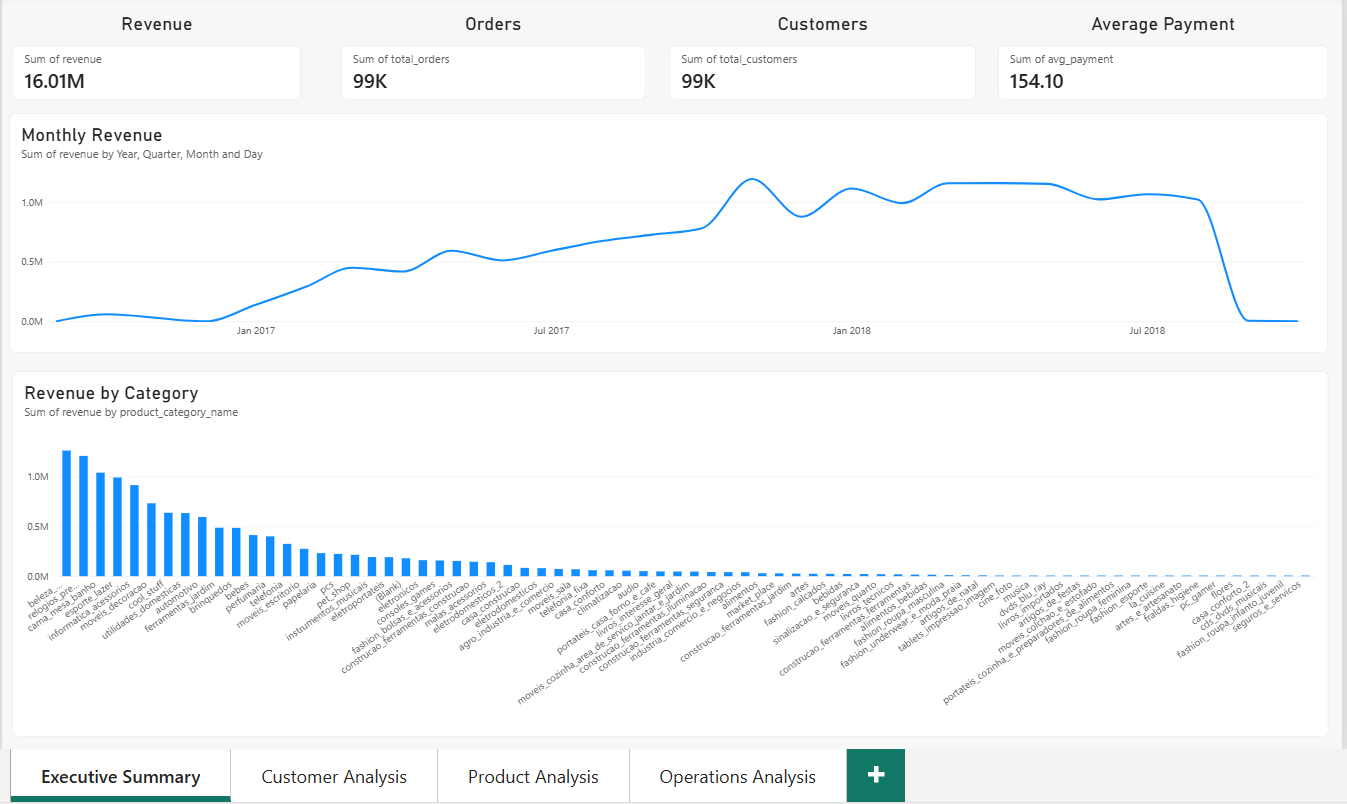

The dashboard page shown, as its layout file describes it:
{"tool":"powerbi","page":{"name":"Executive Summary","canvas":[1920,1080],"ordinal":0},"visuals":[{"type":"cardVisual","title":"Revenue","fields":{"Data":["Sum(public vw_kpis.revenue)"]},"box":[14.2,25.5,413.9,124.7],"z":0},{"type":"clusteredColumnChart","title":"Revenue by Category","fields":{"Category":["public vw_category_sales.product_category_name"],"Y":["Sum(public vw_category_sales.revenue)"]},"box":[14.3,539.2,1884.9,522.5],"z":2},{"type":"cardVisual","title":"Orders","fields":{"Data":["Sum(public vw_kpis.total_orders)"]},"box":[484.7,25.5,436.5,124.7],"z":3},{"type":"cardVisual","title":"Customers","fields":{"Data":["Sum(public vw_kpis.total_customers)"]},"box":[955.3,25.5,439.4,124.7],"z":4},{"type":"cardVisual","title":"Average Payment","fields":{"Data":["Sum(public vw_kpis.avg_payment)"]},"box":[1425.8,25.5,473.4,124.7],"z":5},{"type":"lineChart","title":"Monthly Revenue","fields":{"Category":["public vw_monthly_sales.sales_month.Variation.Date Hierarchy.Year","public vw_monthly_sales.sales_month.Variation.Date Hierarchy.Quarter","public vw_monthly_sales.sales_month.Variation.Date Hierarchy.Month","public vw_monthly_sales.sales_month.Variation.Date Hierarchy.Day"],"Y":["Sum(public vw_monthly_sales.revenue)"]},"box":[11.3,170.1,1887.9,343],"z":6}]}

Visuals, with their boxes on the page's 1920x1080 design canvas (x1, y1, x2, y2). These are canvas units, not pixel positions in the 1347x804 screenshot, which may show the page scaled, cropped or inside an application window:
"Revenue" cardVisual: bbox=(14, 26, 428, 150)
"Revenue by Category" clusteredColumnChart: bbox=(14, 539, 1899, 1062)
"Orders" cardVisual: bbox=(485, 26, 921, 150)
"Customers" cardVisual: bbox=(955, 26, 1395, 150)
"Average Payment" cardVisual: bbox=(1426, 26, 1899, 150)
"Monthly Revenue" lineChart: bbox=(11, 170, 1899, 513)
